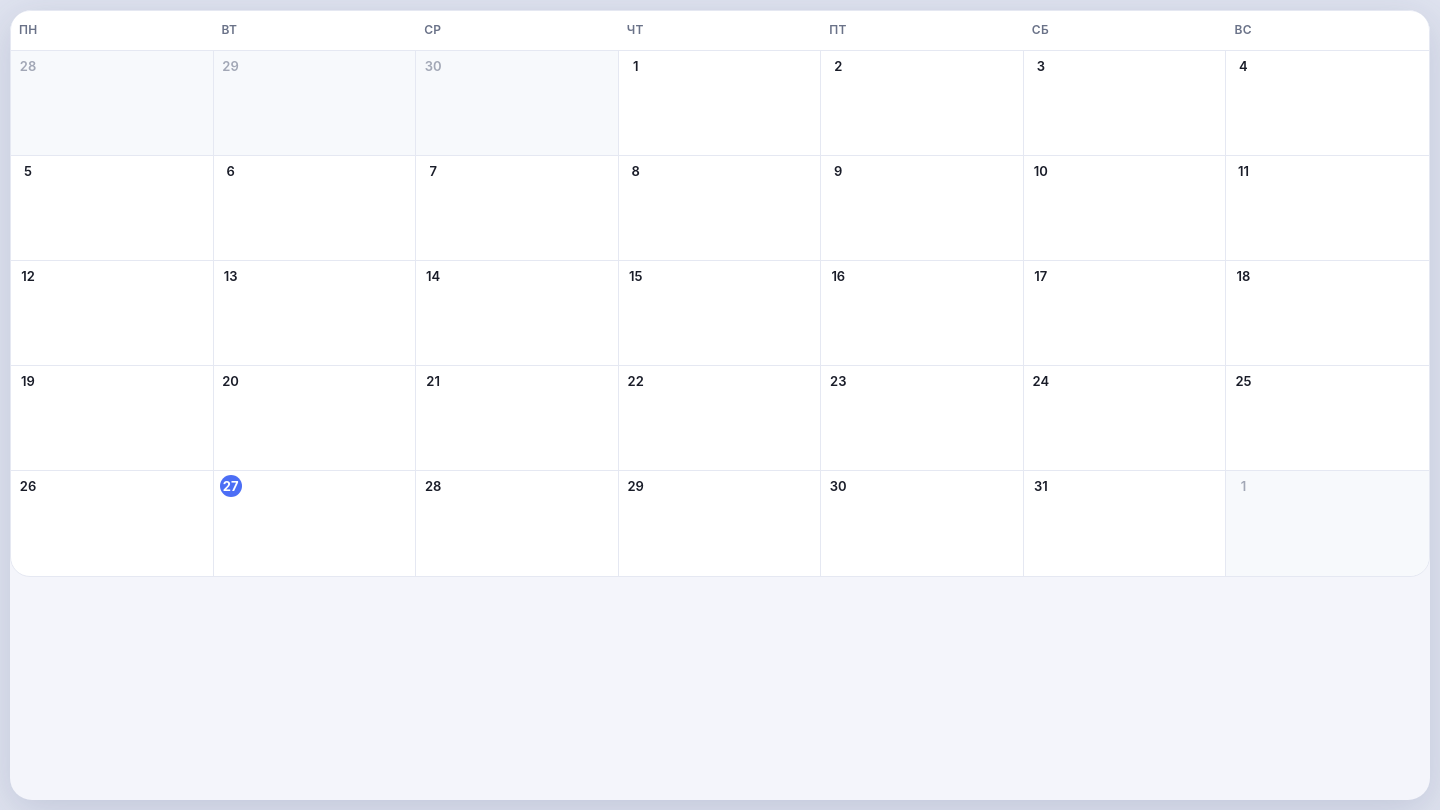
it: MonthCalendar: действия › клик по дню -> быстрый ввод -> Enter создаёт ОДНУ задачу на этот день
Click the button named "Добавить задачу" at (720, 313), box [619,261,821,365]
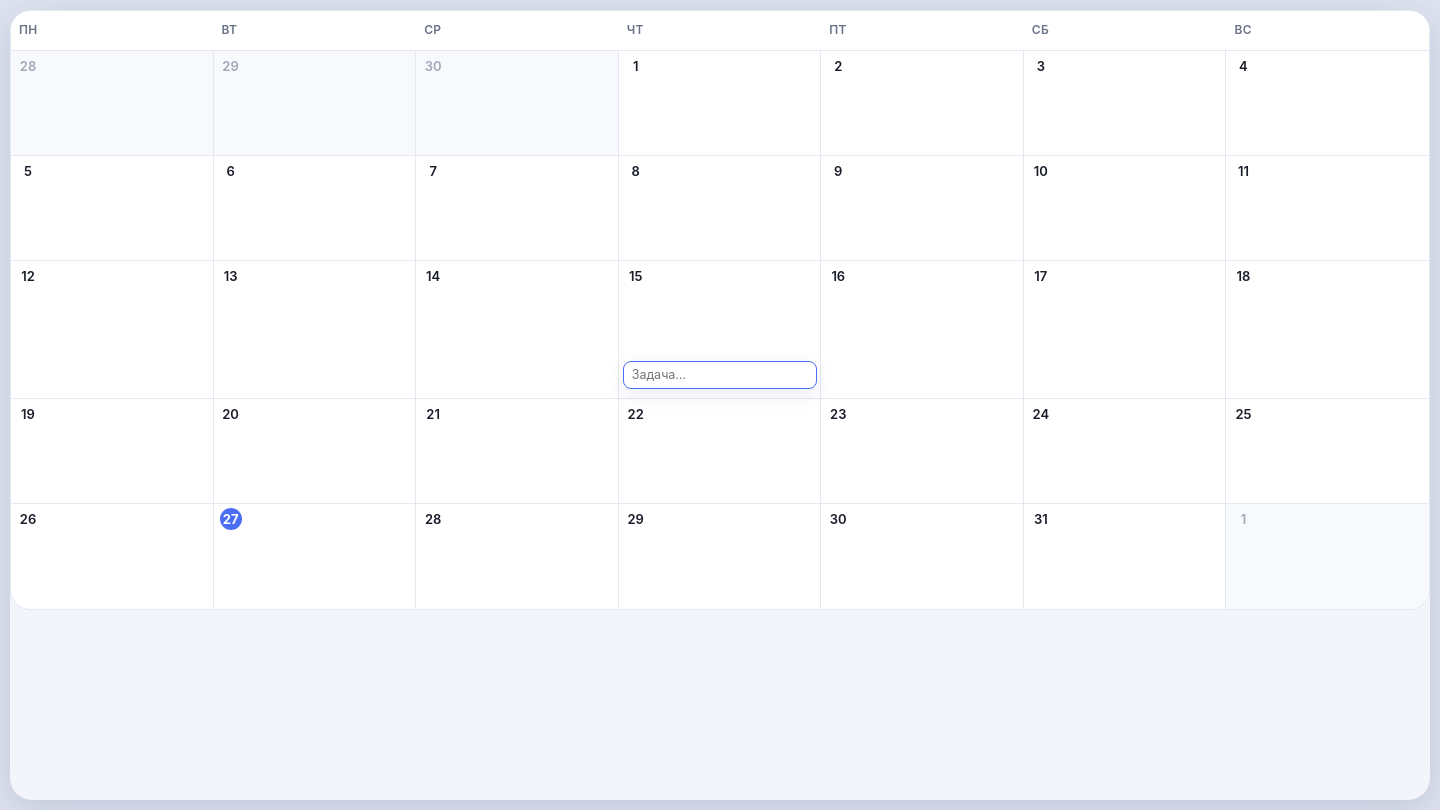
Type keys "Позвонить{Enter}"
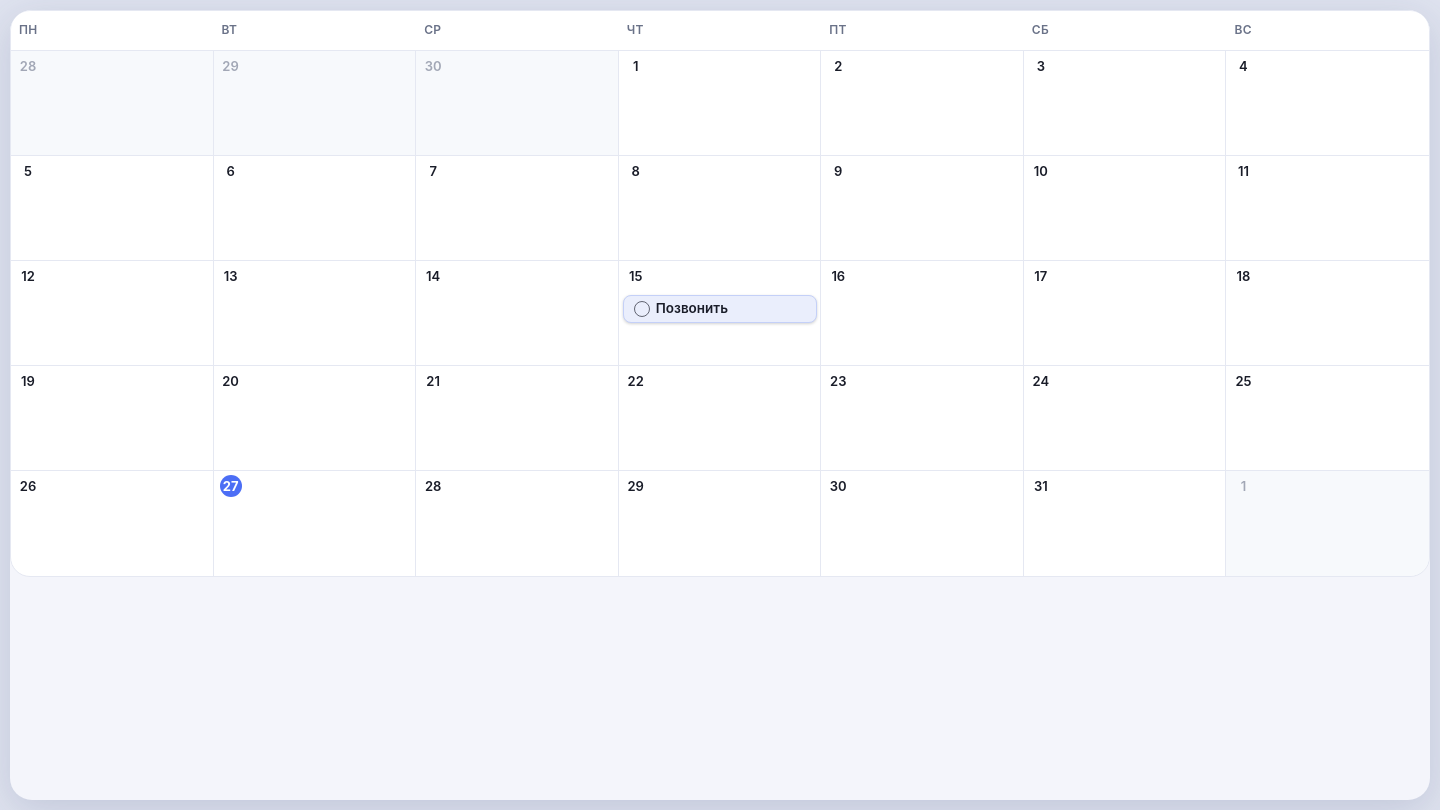
Expected: the field with placeholder "Задача…" is gone
